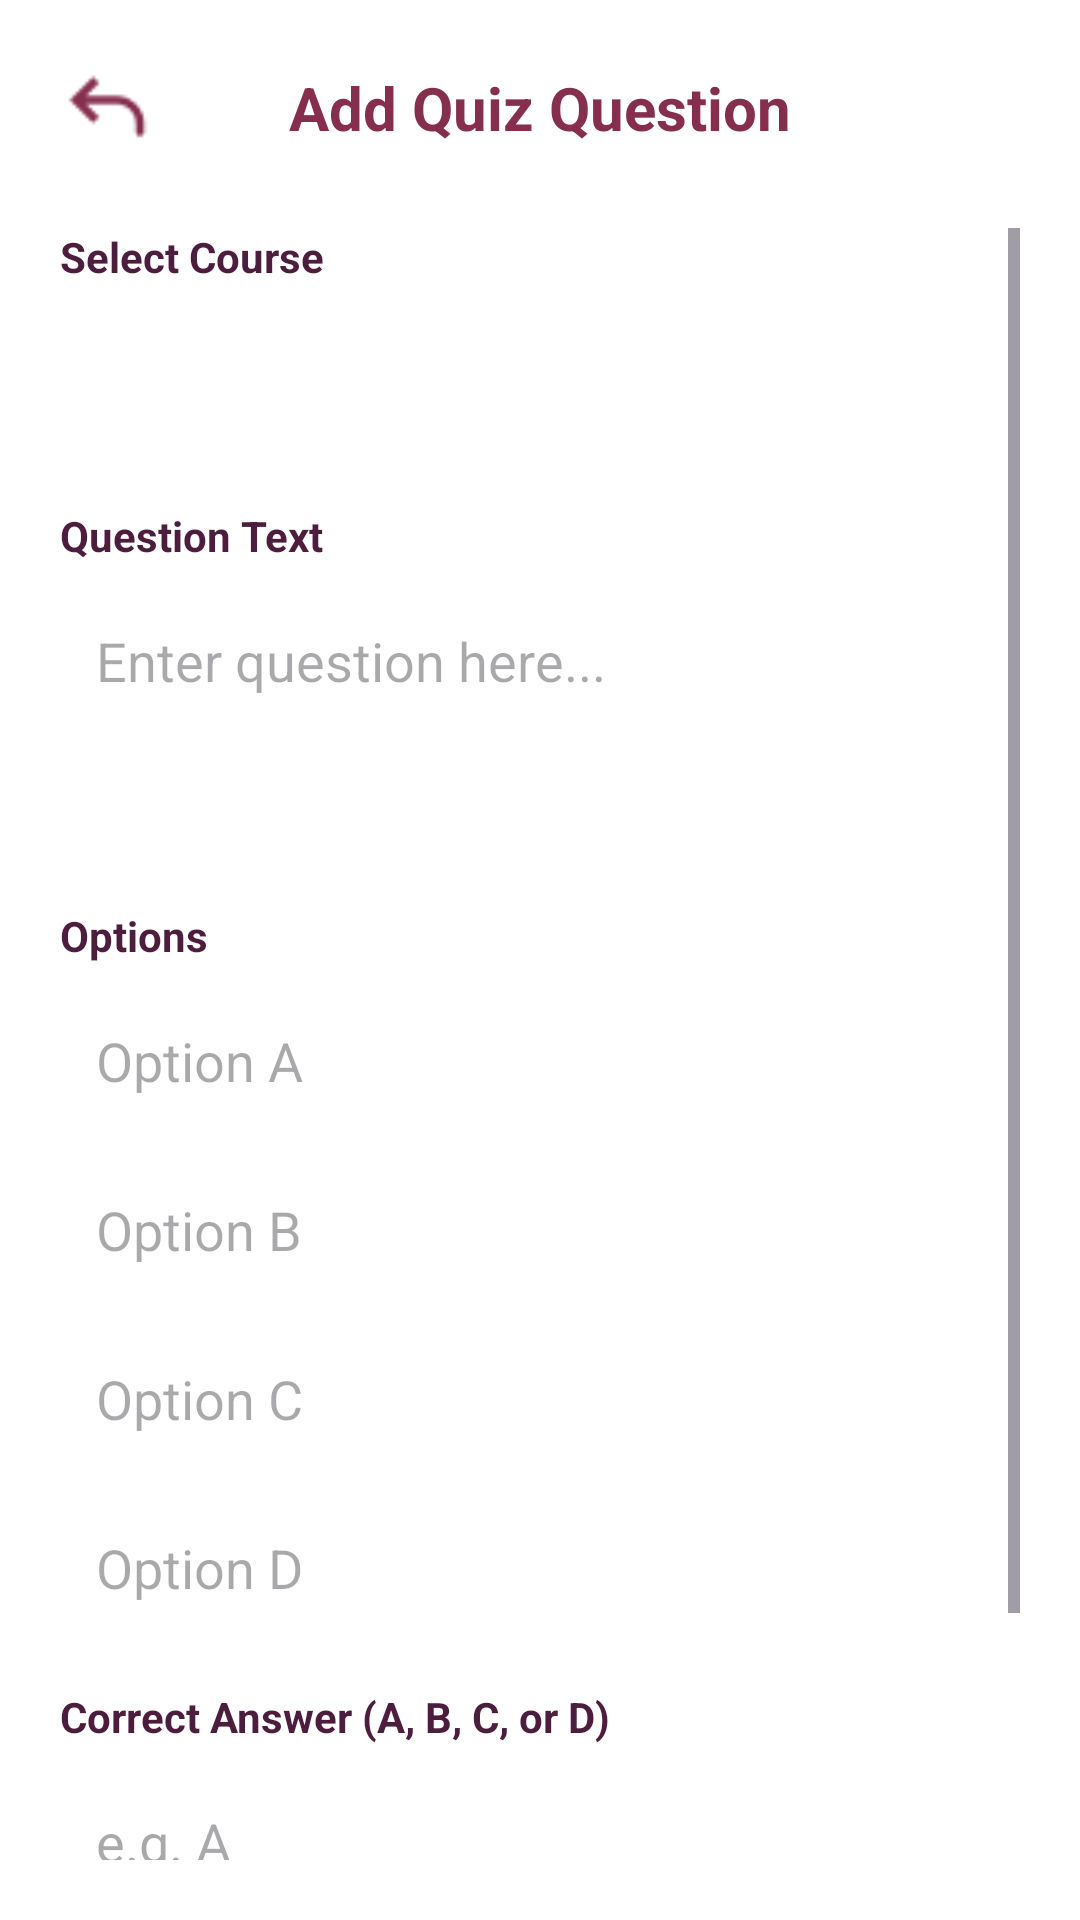

Icons on this 1080px×1920px Android screen, each with its box as (x1=x1, y1=y1, x2=x2, y2=y2):
back: (x1=69, y1=75, x2=147, y2=138)
